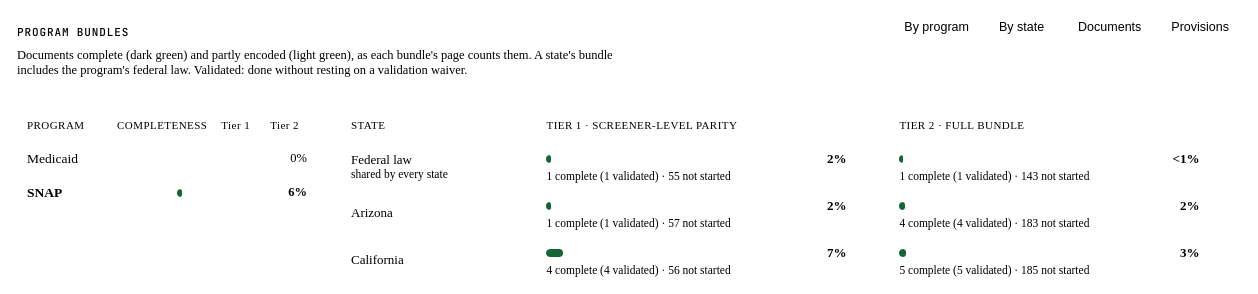
it: BundleOverview › views by state: the federal law and each state count only their own documents
The image size is (1258, 294).
Click the radio button labelled "By state" at (1022, 27), box [987,16,1056,38]
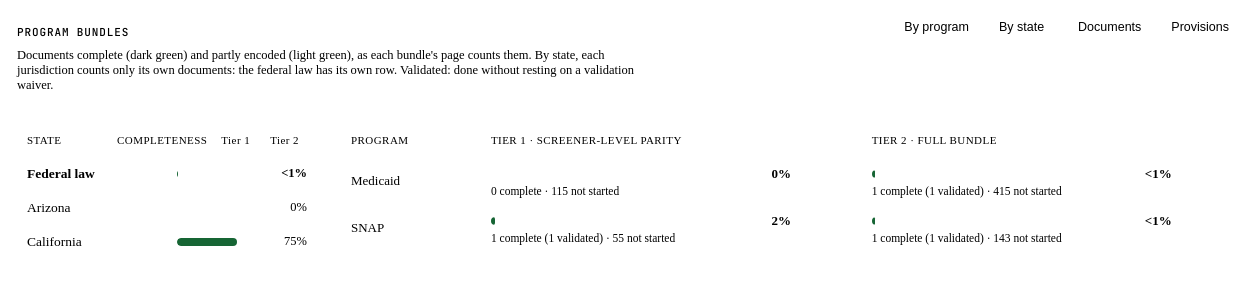
Click the button "Arizona 0%" at (49, 207), box [17,192,317,224]
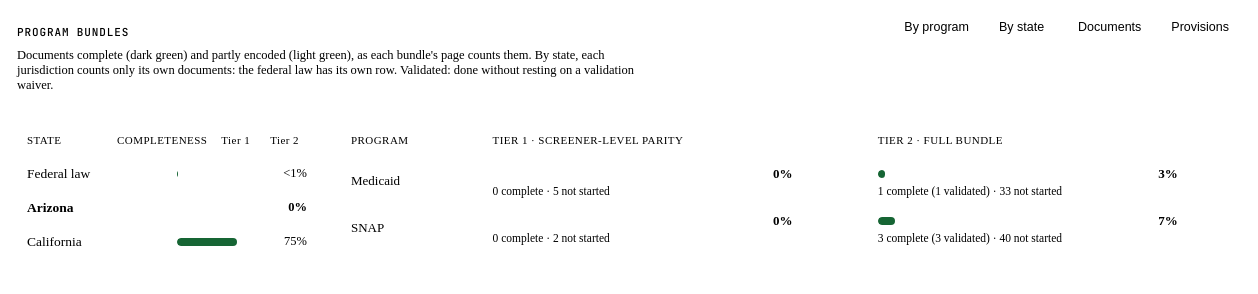
Expected: the row "SNAP" reads "SNAP 0% 0 complete · 2 not started 7% 3 complete (3 validated) · 40 not started", [341,205,1241,252]
